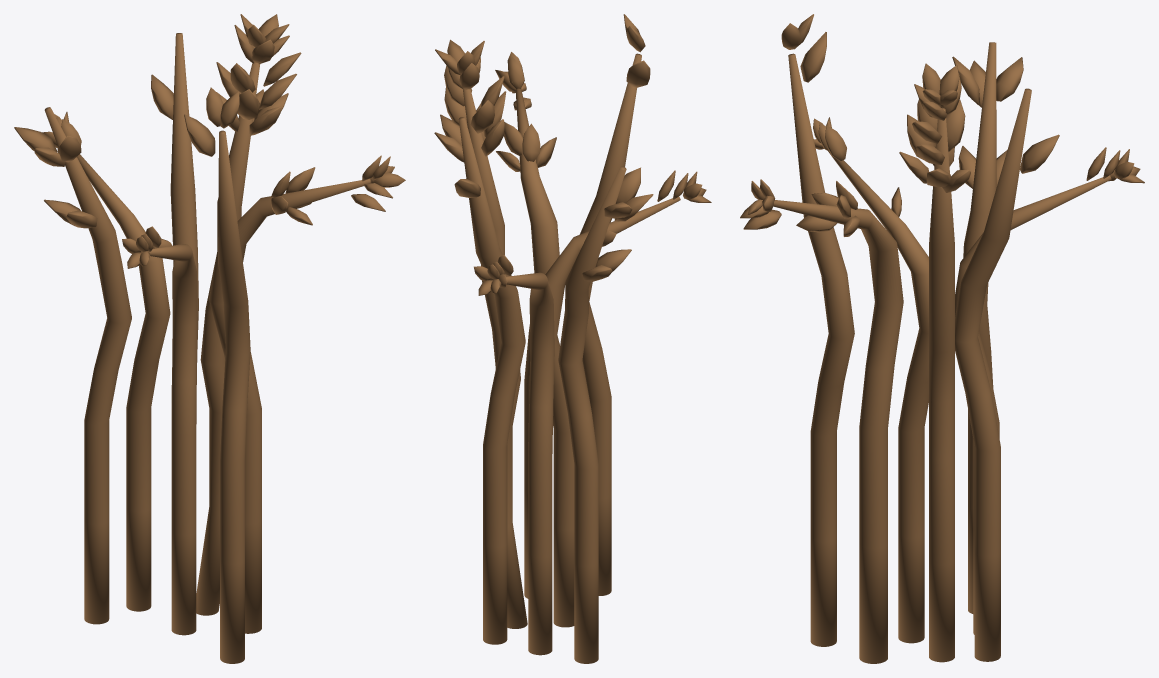
Rendered from DeadWheat.fbx.
The picture shows the model from 3 angles, left to right: view 1: azimuth 30°, elevation 25°; view 2: azimuth 150°, elevation 25°; view 3: azimuth 270°, elevation 25°; orthographic projection. The views are drawn at different scales.
Parts seen in each view (by area): view 1: Cube.077; view 2: Cube.077; view 3: Cube.077.
Part boxes in pixels (x1,y1,x2,y2): Cube.077: (14, 14, 405, 663); Cube.077: (434, 14, 711, 663); Cube.077: (740, 14, 1144, 663).
Bounding box in the file's own units: 70.84 × 149 × 89.17.
